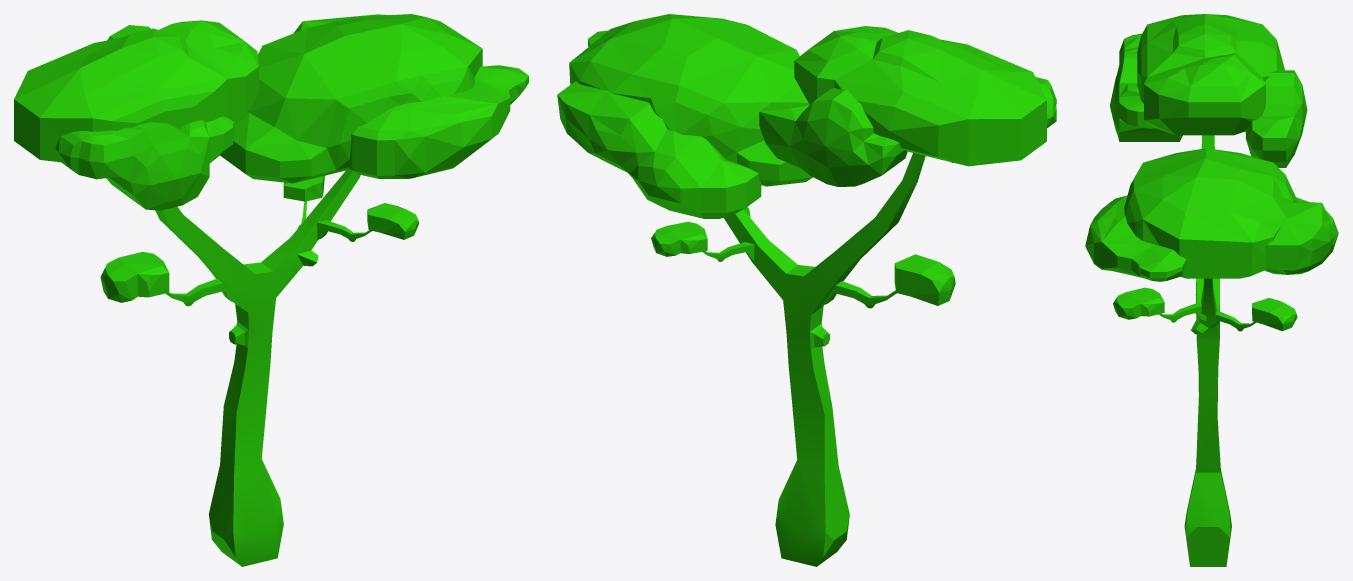
File: shu5.FBX
3 renders of one model, left to right at view 1: azimuth 30°, elevation 25°; view 2: azimuth 150°, elevation 25°; view 3: azimuth 270°, elevation 25°, orthographic. The views are drawn at different scales.
Parts seen in each view (by area): view 1: 对象1113, FOL_Foliage_06; view 2: 对象1113, FOL_Foliage_06; view 3: 对象1113, FOL_Foliage_06.
Boxes of the visible parts, x1,y1,x2,y2 form: 对象1113: (14, 14, 528, 302); FOL_Foliage_06: (155, 169, 371, 566); 对象1113: (557, 14, 1056, 305); FOL_Foliage_06: (702, 153, 925, 566); 对象1113: (1085, 14, 1338, 331); FOL_Foliage_06: (1159, 135, 1256, 566).
Bounding box in the file's own units: 1412 × 1557 × 741.
